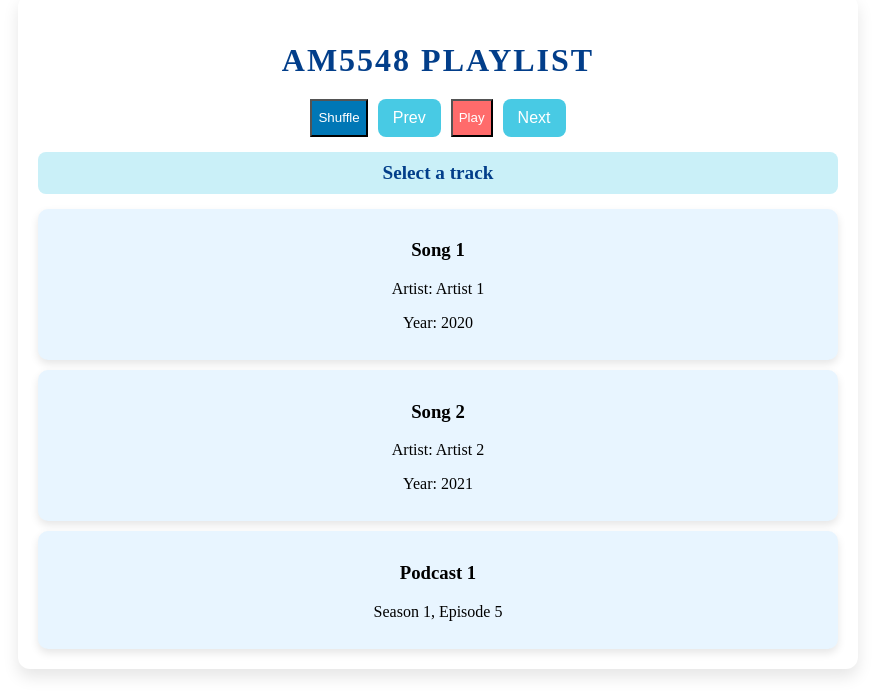
Test: Playlist Component › clicking Next/Prev while paused resumes playing
Double-click the heading "Song 1" at (438, 250), box [411,239,465,260]
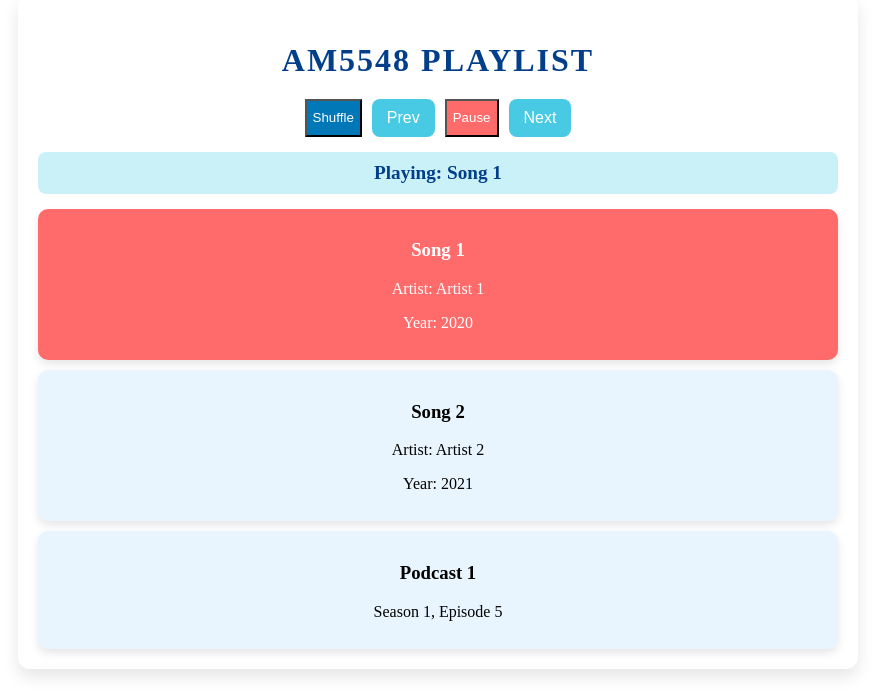
Expected: the text "Playing: Song 1" is shown, [38,152,838,194]
Click the button "Pause" at (472, 118), box [445,98,498,136]
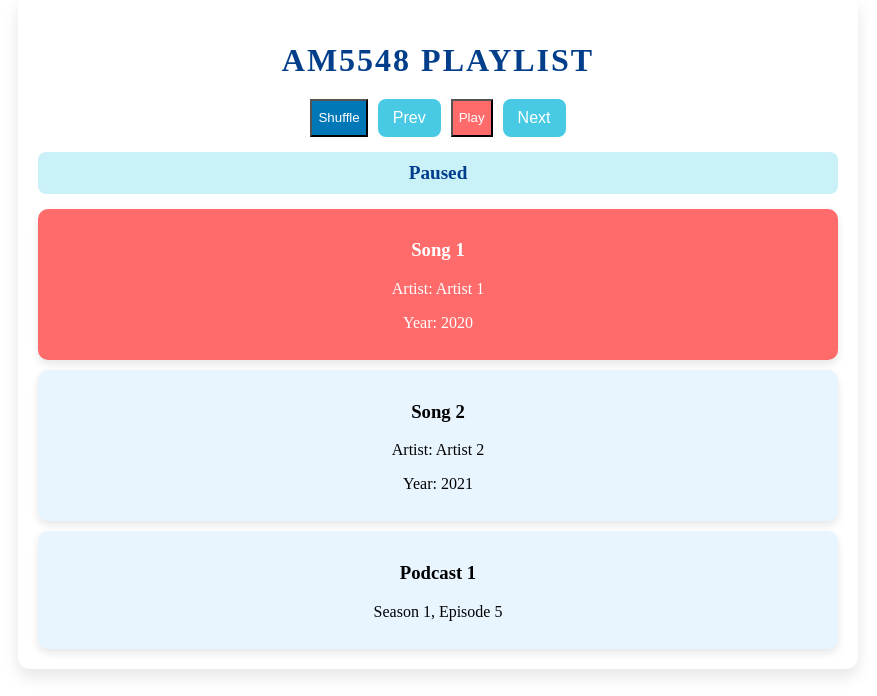
Expected: the text "Paused" is shown, [38,152,838,194]
Click the button "Next" at (534, 118), box [503,98,566,136]
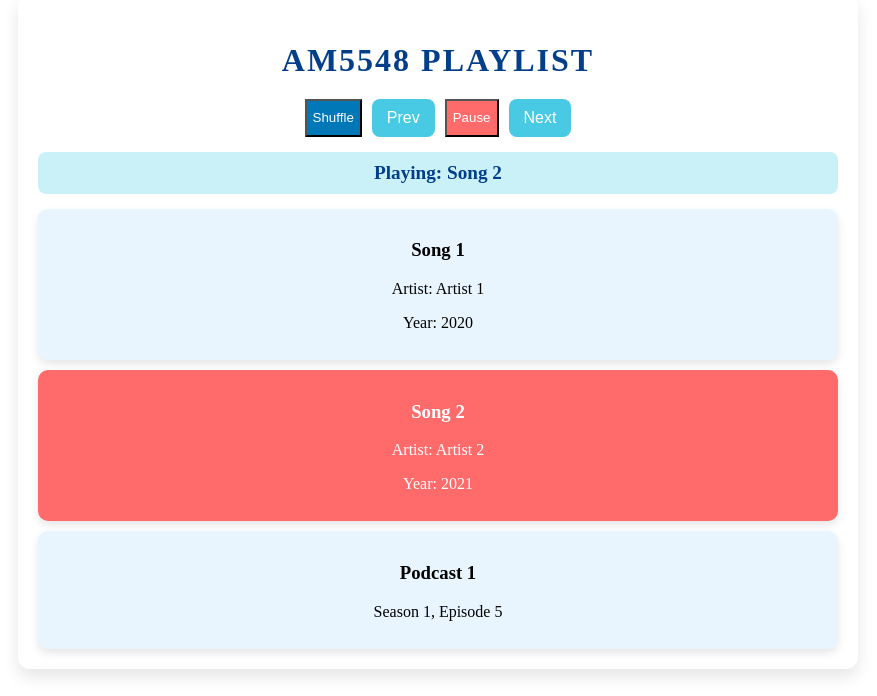
Expected: the text "Playing: Song 2" is shown, [38,152,838,194]
